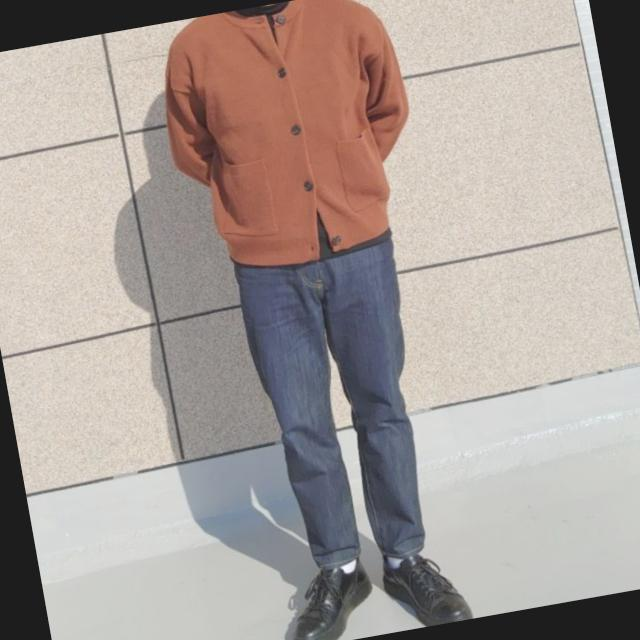cardigan: (147, 0, 431, 278)
denimpants: (234, 227, 446, 579)
